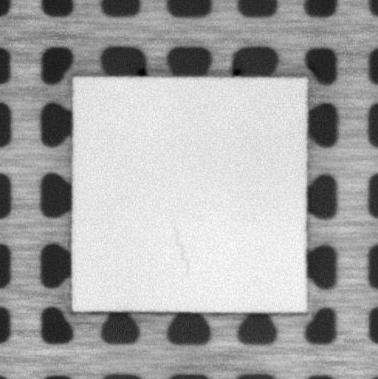DIE_CRACK: (169, 224, 191, 275)
